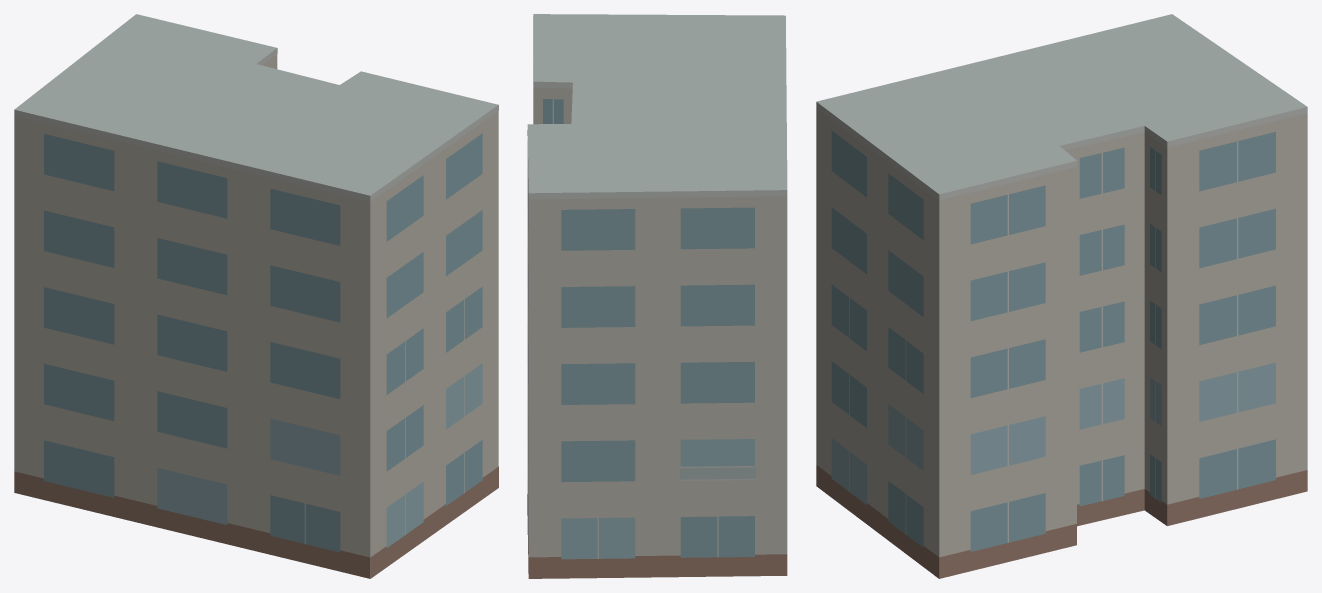
Rendered from survey-upis-32940332.glb.
3 renders of one model, left to right at view 1: azimuth 30°, elevation 25°; view 2: azimuth 150°, elevation 25°; view 3: azimuth 270°, elevation 25°, orthographic.
Visible parts, largest first — view 1: survey-upis-32940332.tmp; view 2: survey-upis-32940332.tmp; view 3: survey-upis-32940332.tmp.
Part boxes in pixels (x1,y1,x2,y2): survey-upis-32940332.tmp: (14,14,498,578); survey-upis-32940332.tmp: (527,14,787,578); survey-upis-32940332.tmp: (816,14,1307,578).
Bounding box in the file's own units: 15.4 × 15.3 × 17.73.
